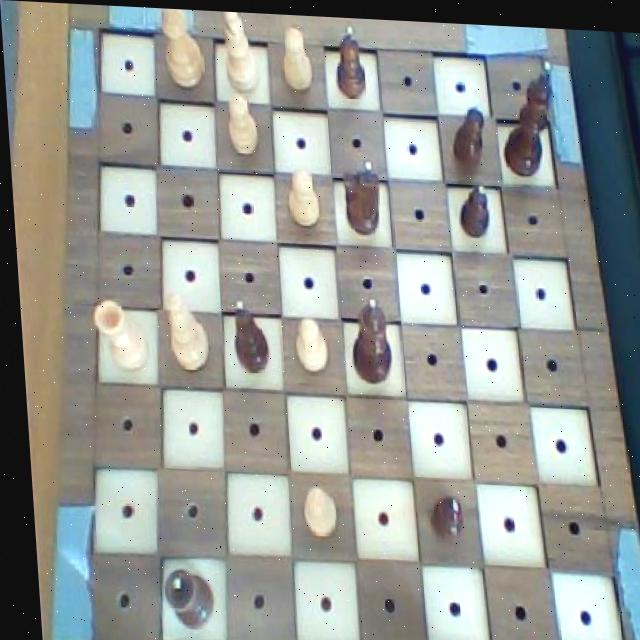bishop: (221, 290, 268, 376)
black-king: (332, 152, 382, 241)
black-knight: (330, 19, 369, 101), (444, 90, 484, 169), (450, 175, 491, 237), (419, 485, 461, 539)
black-pawn: (341, 286, 390, 385)
black-queen: (152, 562, 210, 629)
black-rook: (156, 284, 208, 374), (217, 9, 264, 92)
white-bishop: (156, 6, 210, 88)
white-knight: (282, 309, 328, 378), (291, 478, 337, 543), (219, 87, 261, 156), (276, 20, 315, 93), (281, 165, 321, 230)
white-queen: (88, 295, 147, 372)
